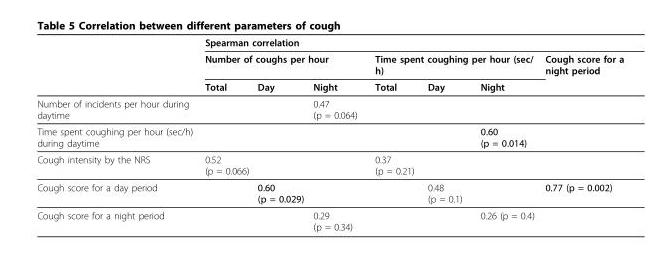table: (36, 36, 623, 231)
table column: (36, 36, 198, 231), (539, 36, 623, 231), (470, 36, 539, 231), (307, 36, 365, 231), (252, 36, 307, 231), (365, 36, 420, 231), (198, 36, 252, 231), (420, 36, 470, 231)
table column header: (36, 36, 623, 95)
table row: (36, 50, 623, 78), (36, 122, 623, 150), (36, 150, 623, 178), (36, 178, 623, 206), (36, 95, 623, 122), (36, 206, 623, 231), (36, 78, 623, 95), (36, 36, 623, 50)
table spanning cell: (198, 36, 623, 50), (365, 50, 539, 78), (198, 50, 365, 78), (539, 50, 623, 95)
